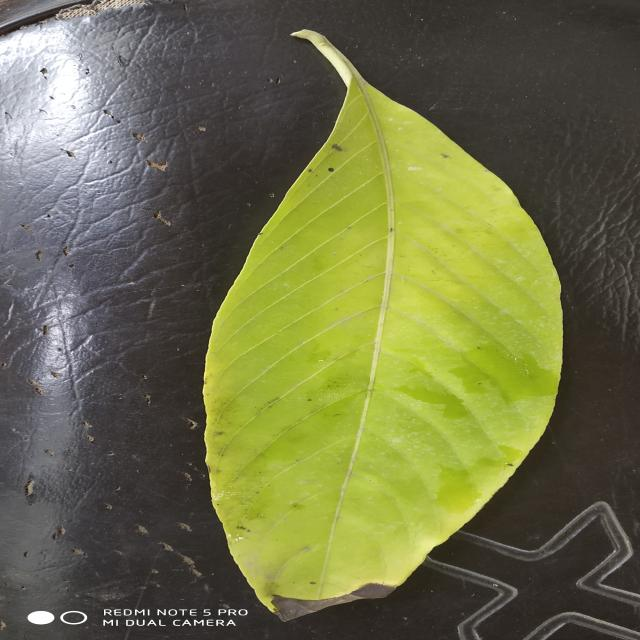malabar_nut: (202, 30, 562, 620)
